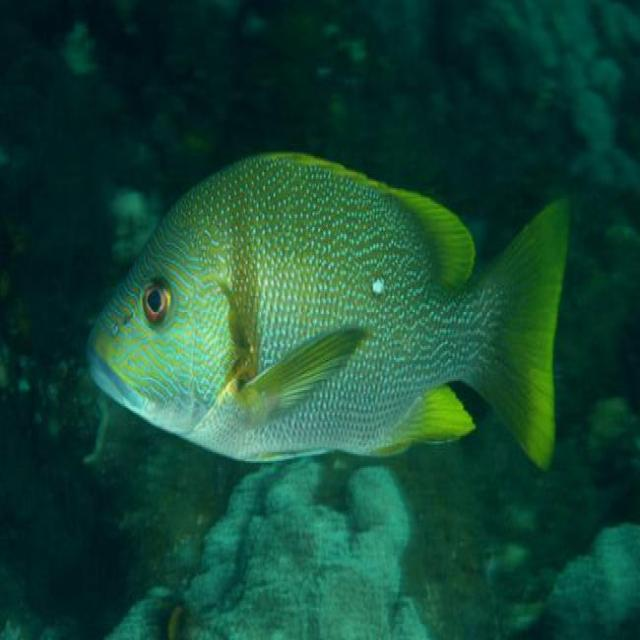ikan: (85, 147, 571, 472)
